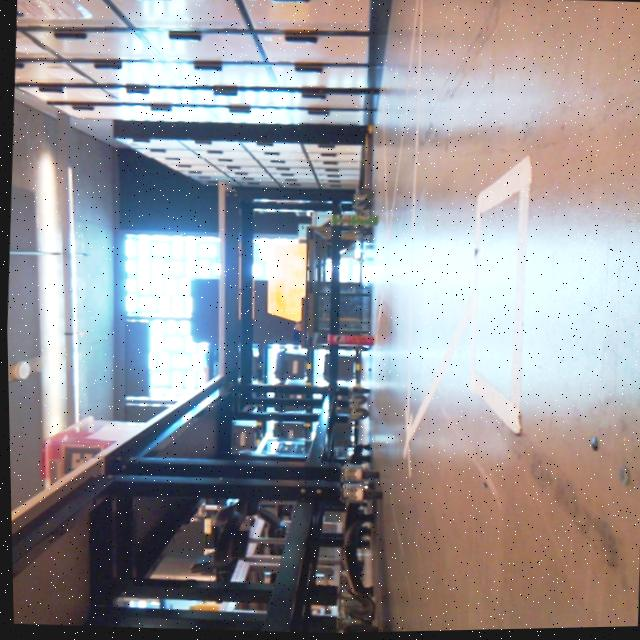greenpringles: (315, 205, 384, 239)
redpringles: (309, 330, 384, 358)
